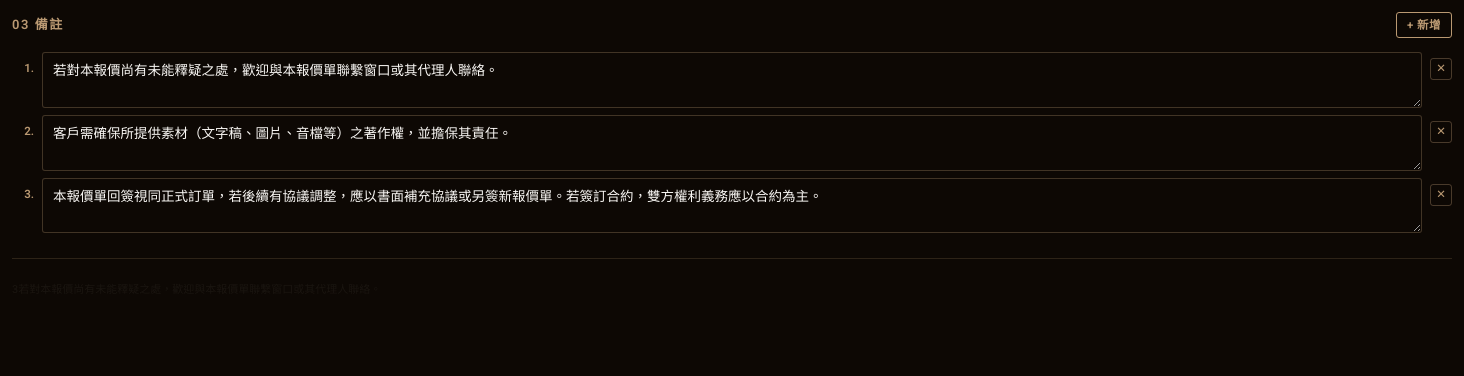
Scenario: NotesSection › "+ 新增" appends a 4th note row
Click the button "+ 新增". click: click(1424, 25)
box: [1396,12,1452,38]
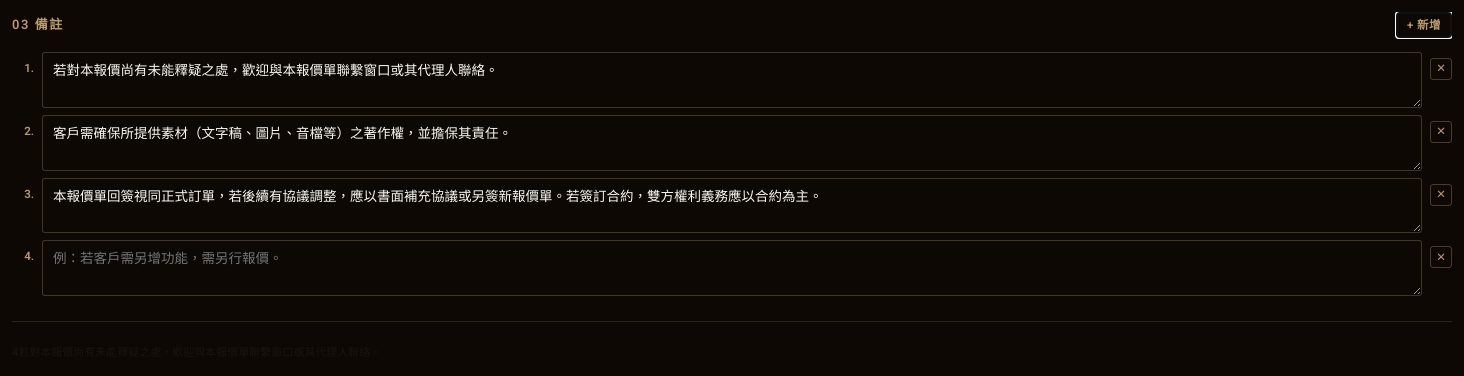
Check: the text "4." is shown, box [24,249,34,263]
Check: the text box named "備註 4" is shown, box [42,240,1422,296]
